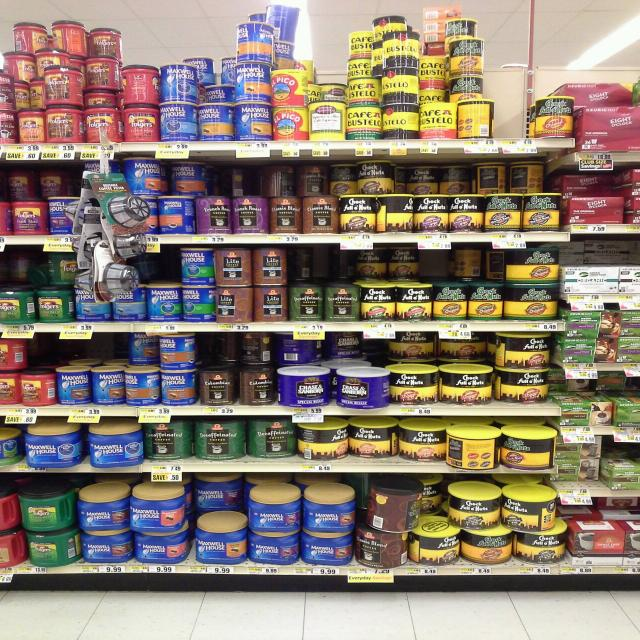empty: (492, 57, 534, 136)
